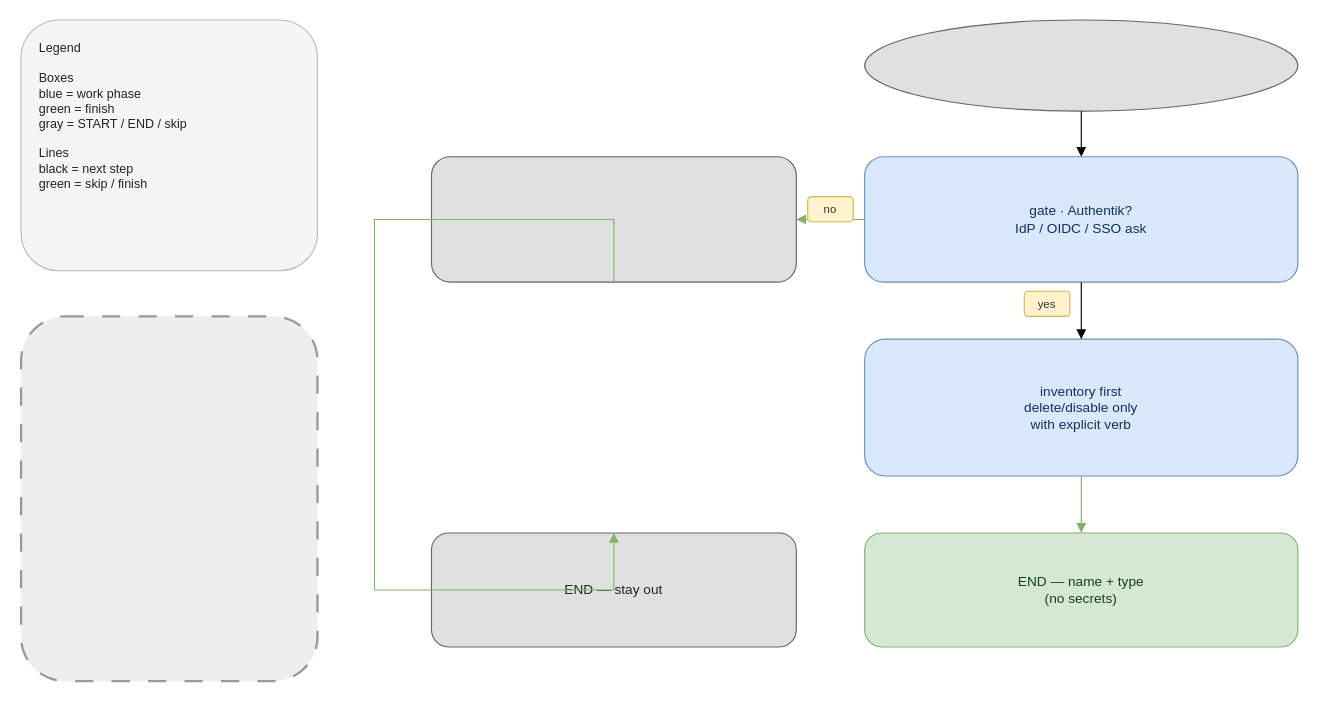
Some shapes in this 1318 by 702 pixel diagram are drawn without their labels. The centre of each missing label's shape, as x and y in pixels:
"AMBIENT — Authentik Never invent app · provider id No client secrets" belongs at (x=168, y=498).
"skip — no Authentik ordinary coding" belongs at (x=613, y=219).
"START — user ask" belongs at (x=1081, y=65).
